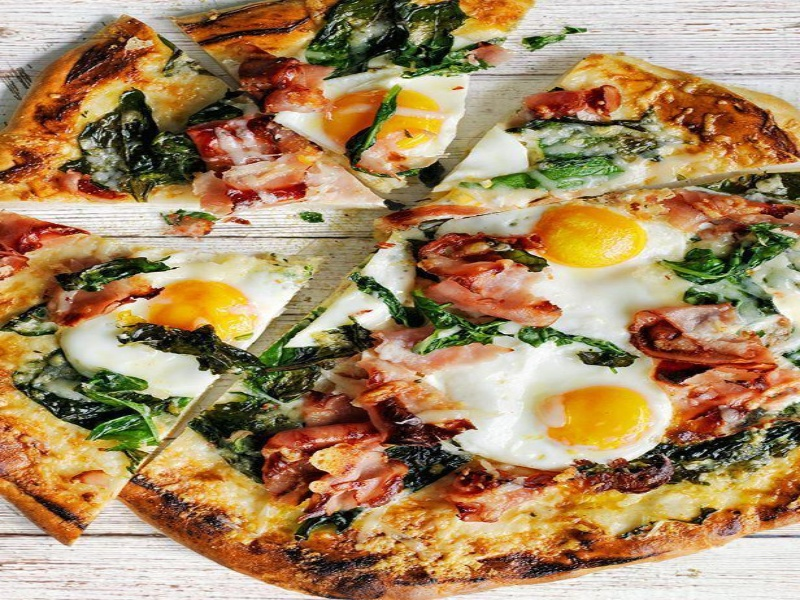oeuf: (525, 380, 667, 462), (517, 204, 652, 280), (319, 79, 447, 156), (143, 269, 262, 350)
